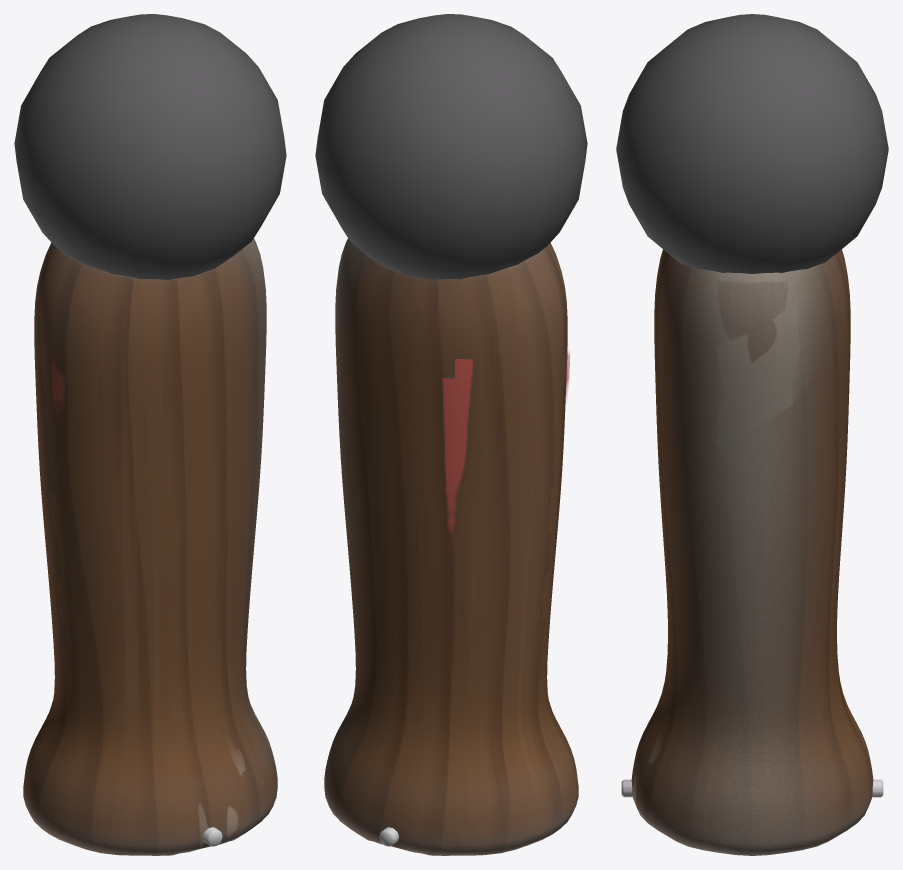
Rendered from UpperArm_R.glb.
3 renders of one model, left to right at view 1: azimuth 30°, elevation 25°; view 2: azimuth 150°, elevation 25°; view 3: azimuth 270°, elevation 25°, orthographic.
Parts seen in each view (by area): view 1: UpperArm_R, UpperArm_R_Ball, UpperArm_R_Paint; view 2: UpperArm_R, UpperArm_R_Ball, UpperArm_R_Paint; view 3: UpperArm_R, UpperArm_R_Ball.
Part boxes in pixels (x1,y1,x2,y2): UpperArm_R: (23, 238, 277, 855); UpperArm_R_Ball: (14, 14, 286, 279); UpperArm_R_Paint: (51, 353, 64, 416); UpperArm_R: (324, 238, 578, 855); UpperArm_R_Ball: (315, 14, 587, 279); UpperArm_R_Paint: (442, 343, 569, 536); UpperArm_R: (631, 249, 873, 855); UpperArm_R_Ball: (616, 14, 888, 273).
Bounding box in the file's own units: 0.116 × 0.3677 × 0.116.
4 materials, 2 textured.
